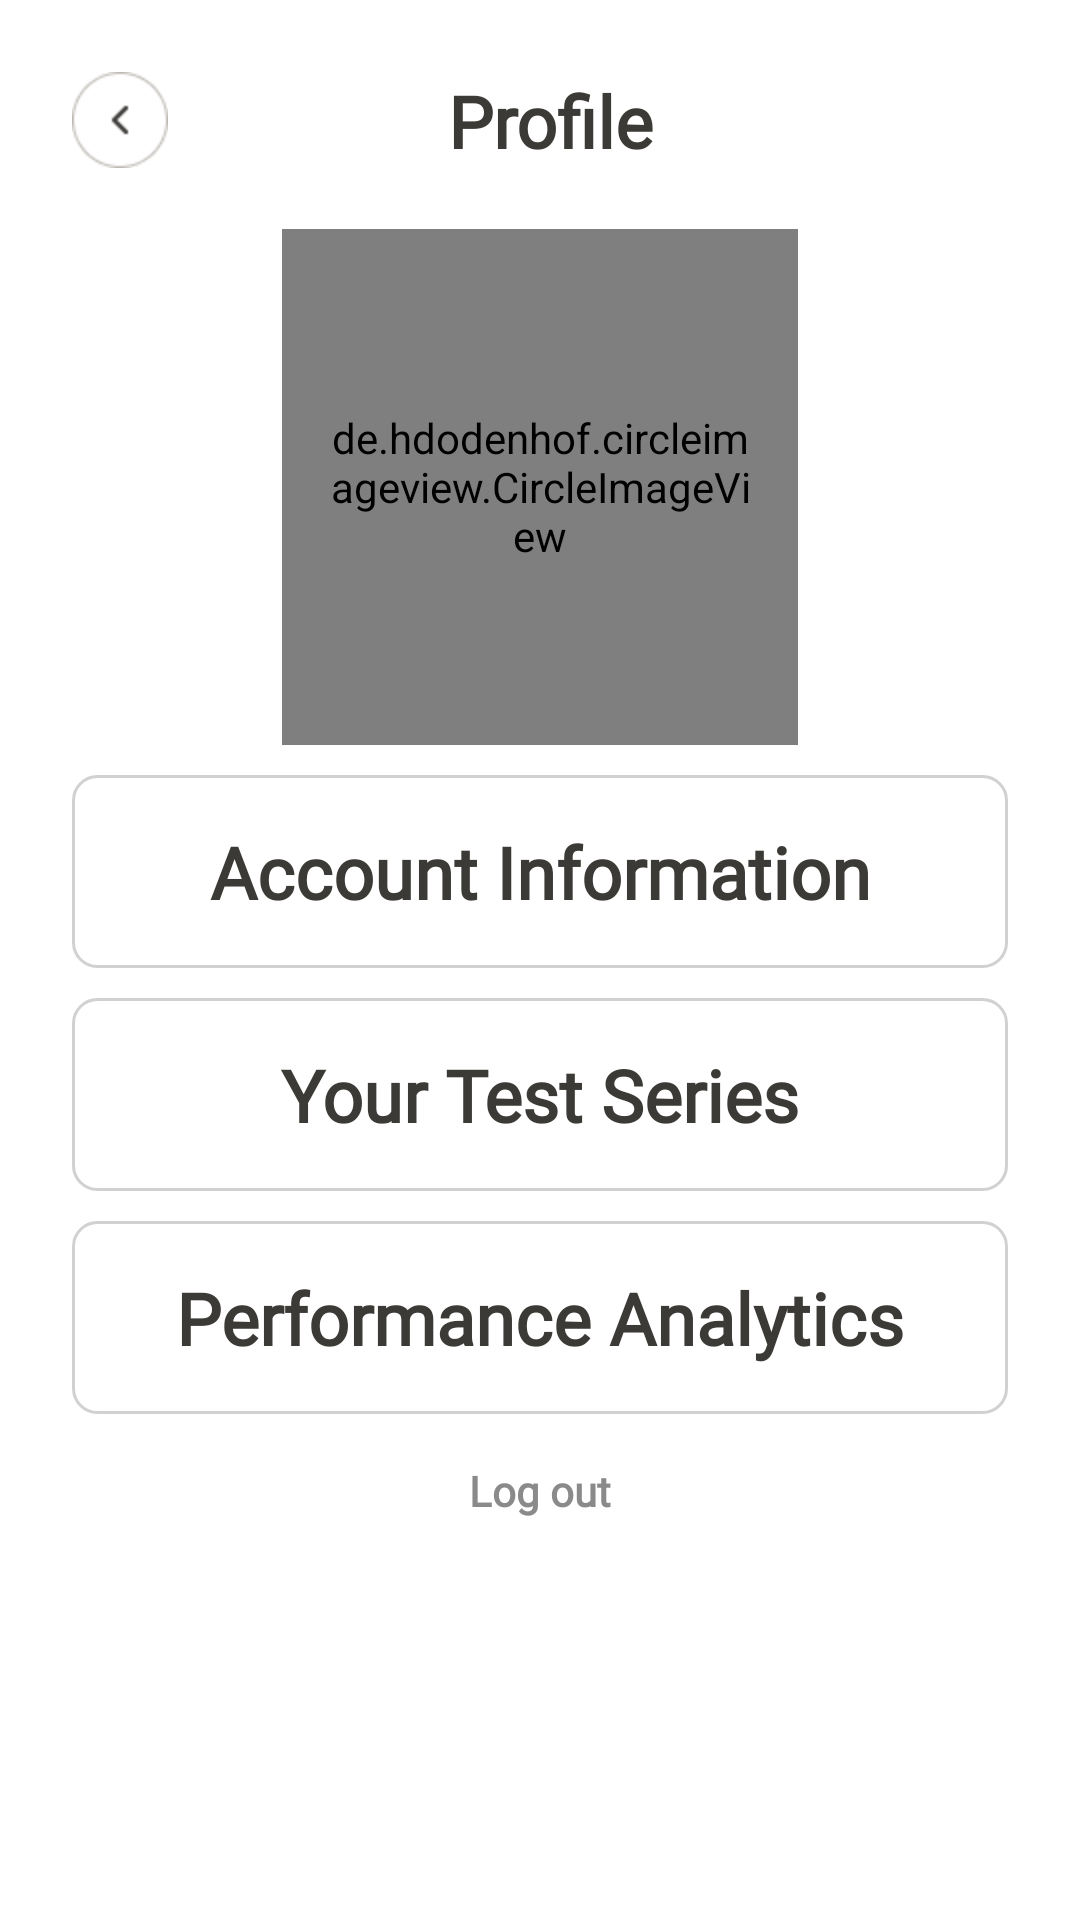

Where to tap for icons on this 1080w x 1920h app screen, as (x,y):
back: (120,120)
